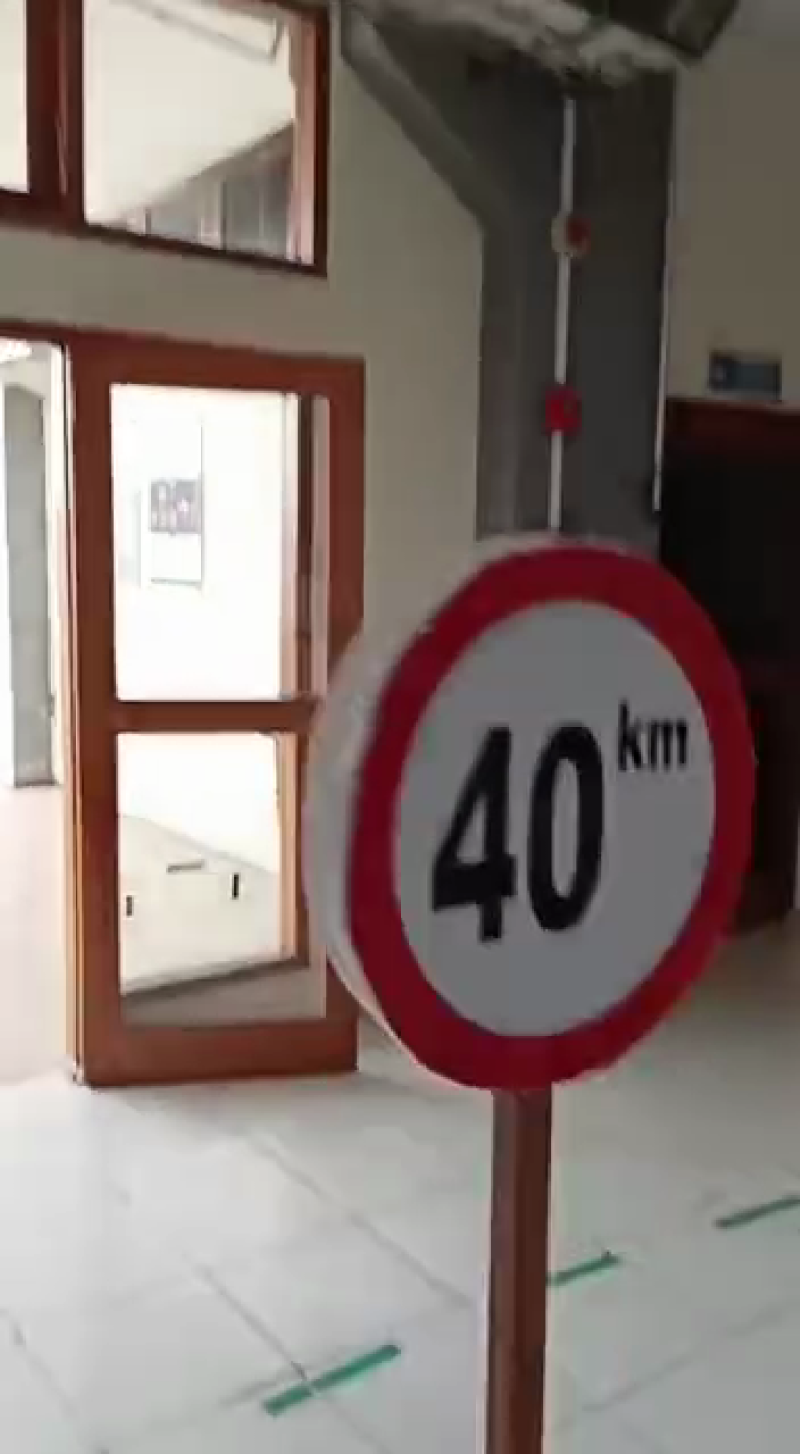batas maksimal 40kmperjam: (298, 525, 778, 1096)
